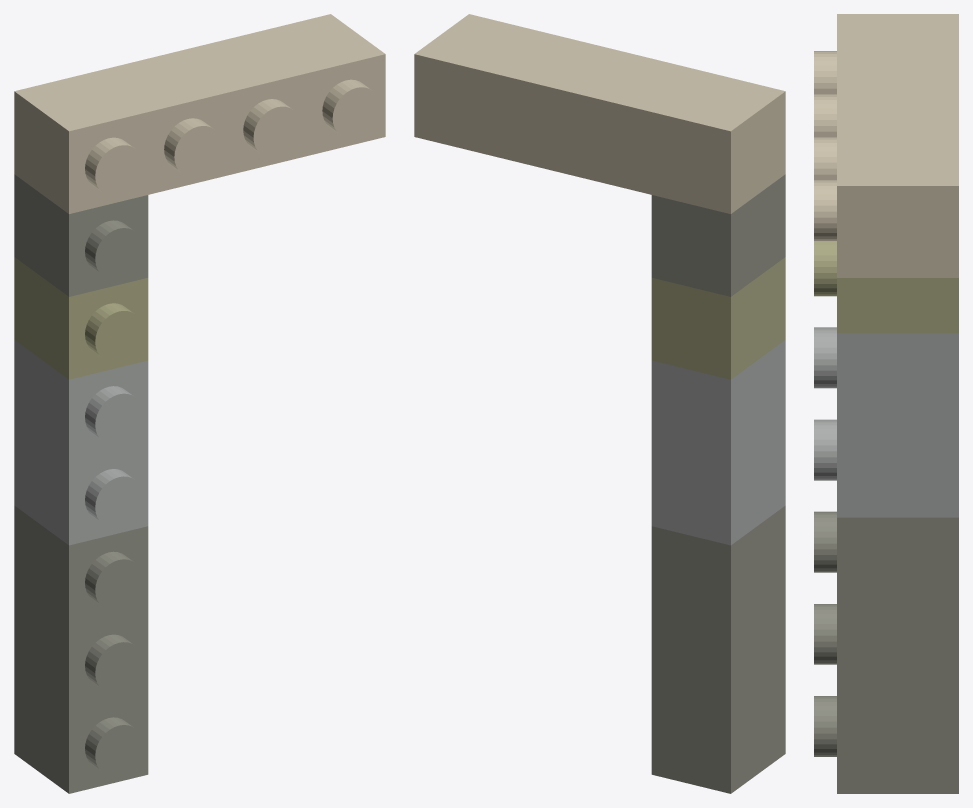
The model's file is current.glb.
3 views of the same model, side by side, from view 1: azimuth 30°, elevation 25°; view 2: azimuth 150°, elevation 25°; view 3: azimuth 270°, elevation 25° (orthographic). The views are drawn at different scales.
Visible parts, largest first — view 1: world; view 2: world; view 3: world.
Part boxes in pixels (<box>): world: <box>14,14,385,793</box>; world: <box>414,14,785,793</box>; world: <box>814,14,958,793</box>.
Size of the model in its own units: 32 by 64 by 11.4.
